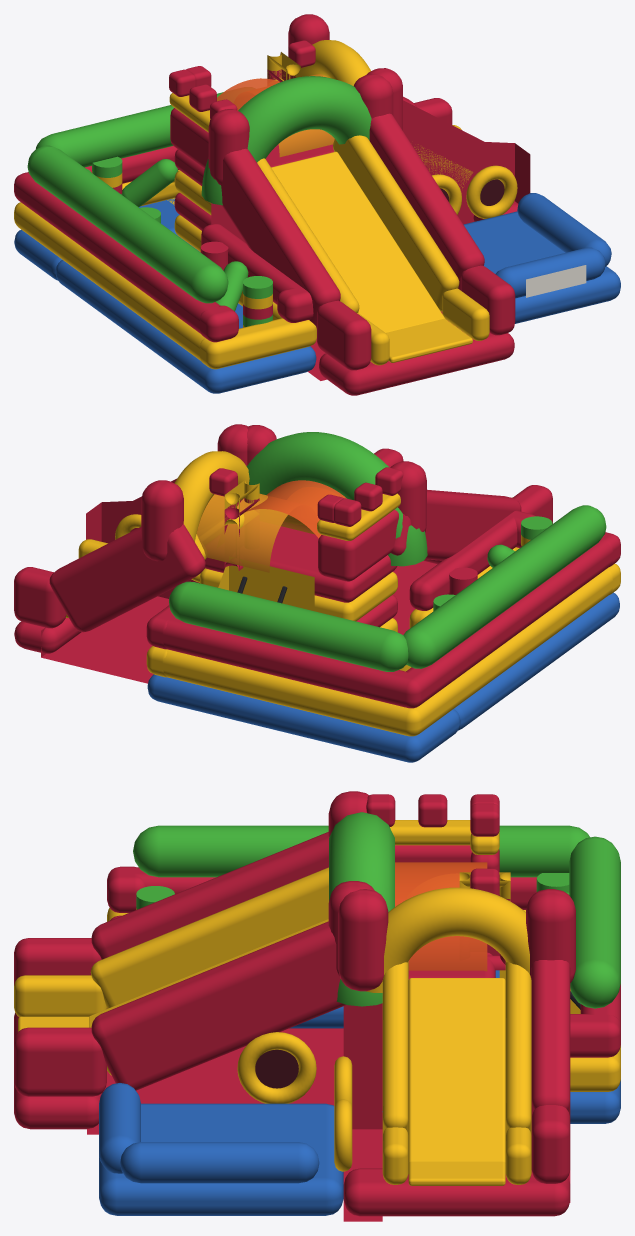
File: megatobogan-v5.glb
The picture shows the model from 3 angles, top to bottom: view 1: azimuth 30°, elevation 25°; view 2: azimuth 150°, elevation 25°; view 3: azimuth 270°, elevation 25°; orthographic projection. The views are drawn at different scales.
Visible parts, largest first — view 1: rojo, amarillo, verde, azul, cartel, naranja, malla, hueco; view 2: rojo, verde, amarillo, azul, naranja, malla; view 3: rojo, amarillo, azul, verde, malla, hueco.
Boxes of the visible parts, x1,y1,x2,y2 form: rojo: [14, 14, 530, 395]; amarillo: [14, 40, 517, 369]; verde: [27, 76, 371, 326]; azul: [14, 193, 620, 393]; cartel: [526, 265, 586, 297]; naranja: [278, 74, 334, 157]; malla: [217, 78, 279, 110]; hueco: [440, 179, 504, 205]; rojo: [14, 424, 620, 708]; verde: [169, 432, 606, 671]; amarillo: [65, 451, 620, 736]; azul: [147, 592, 619, 762]; naranja: [196, 493, 315, 572]; malla: [246, 480, 346, 538]; rojo: [14, 791, 620, 1221]; amarillo: [14, 820, 620, 1185]; azul: [99, 970, 620, 1215]; verde: [133, 812, 620, 1008]; malla: [395, 862, 487, 971]; hueco: [255, 1049, 298, 1088].
Bounding box in the file's own units: 7.5 × 3.5 × 7.5.
